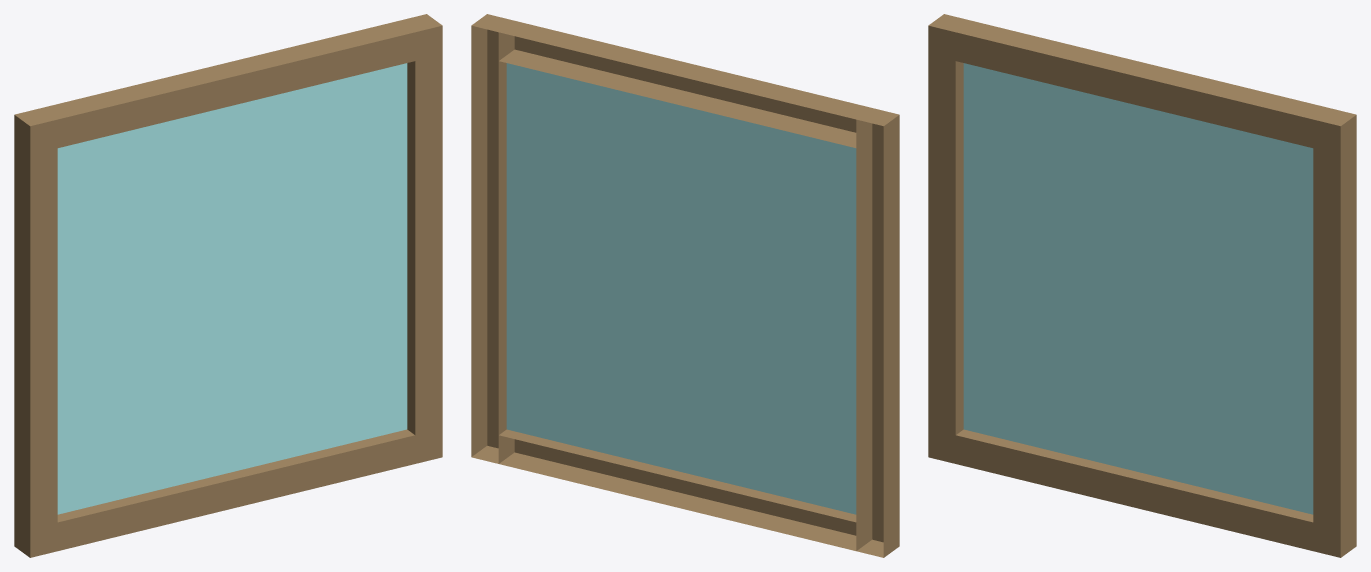
The model's file is WINDOW_BASIC_150x150.fbx.
The picture shows the model from 3 angles, left to right: view 1: azimuth 30°, elevation 25°; view 2: azimuth 150°, elevation 25°; view 3: azimuth 330°, elevation 25°; orthographic projection.
Visible parts, largest first — view 1: WINDOW_BASIC_150x150; view 2: WINDOW_BASIC_150x150; view 3: WINDOW_BASIC_150x150.
Part boxes in pixels (x1,y1,x2,y2): WINDOW_BASIC_150x150: [14, 14, 442, 557]; WINDOW_BASIC_150x150: [471, 14, 899, 557]; WINDOW_BASIC_150x150: [928, 14, 1356, 557].
Size of the model in its own units: 150 by 150 by 10.
